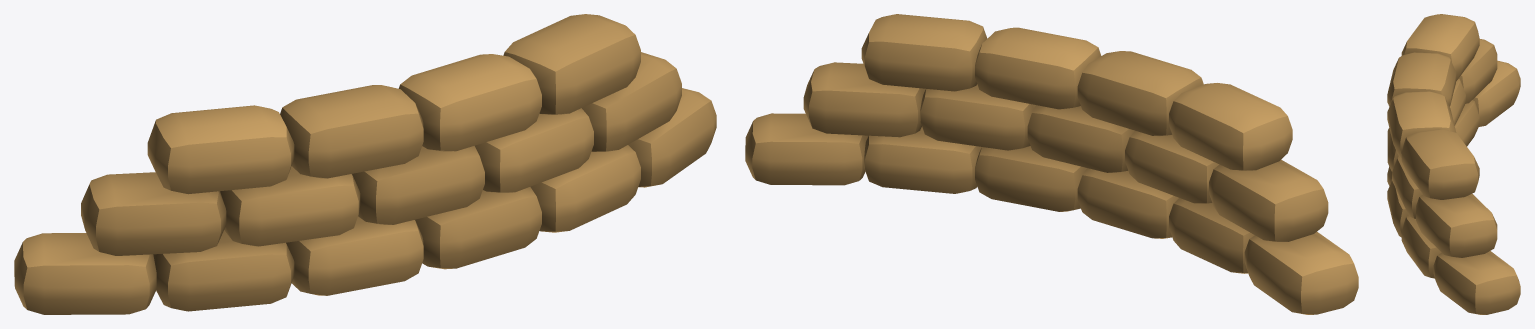
Rendered from sv_sandbags.glb.
3 renders of one model, left to right at view 1: azimuth 30°, elevation 25°; view 2: azimuth 150°, elevation 25°; view 3: azimuth 270°, elevation 25°, orthographic. The views are drawn at different scales.
Visible parts, largest first — view 1: body; view 2: body; view 3: body.
Part boxes in pixels (x1=…): body: x1=14, y1=14, x2=716, y2=314; body: x1=745, y1=14, x2=1358, y2=314; body: x1=1387, y1=14, x2=1520, y2=314.
Size of the model in its own units: 3.58 by 0.9 by 0.8806.
